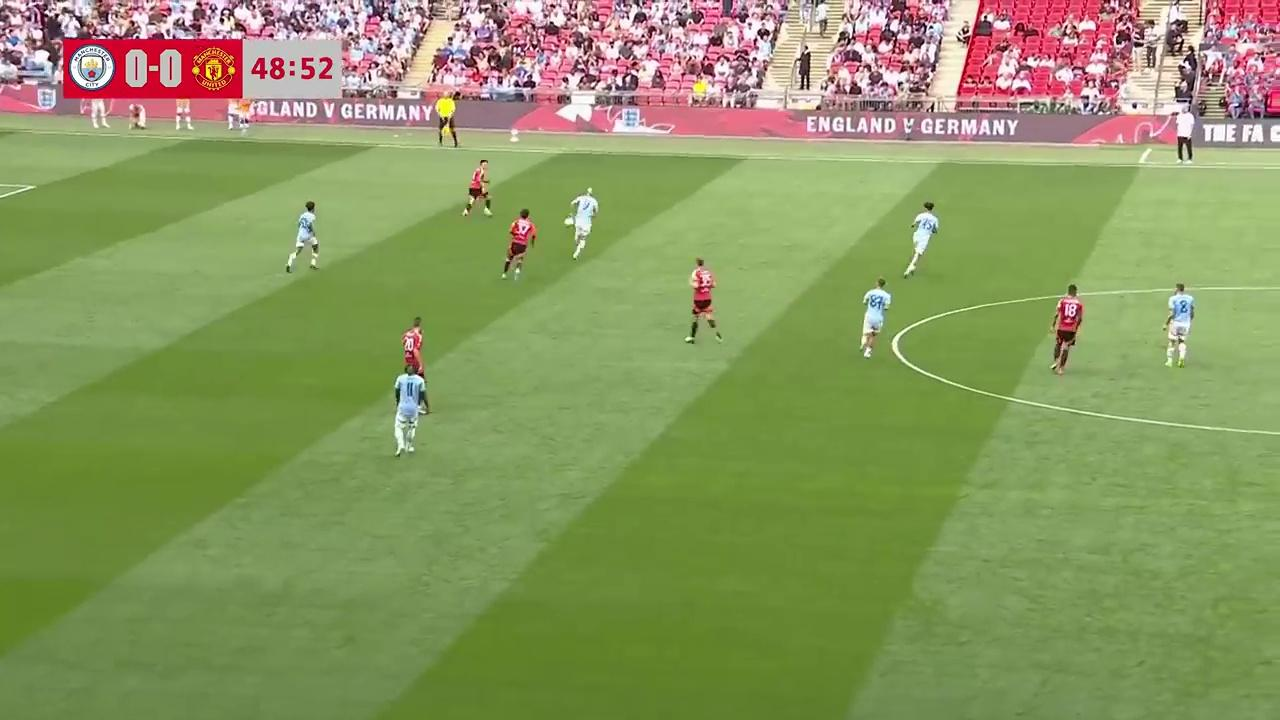ball: (562, 213, 574, 229)
player: (390, 362, 430, 460), (1049, 284, 1084, 375), (685, 258, 722, 344), (1163, 282, 1195, 367), (904, 202, 939, 277), (501, 209, 536, 282), (285, 201, 320, 273), (861, 276, 891, 358), (567, 187, 598, 258), (400, 316, 427, 383), (462, 159, 491, 217)
referee: (436, 98, 459, 148)
